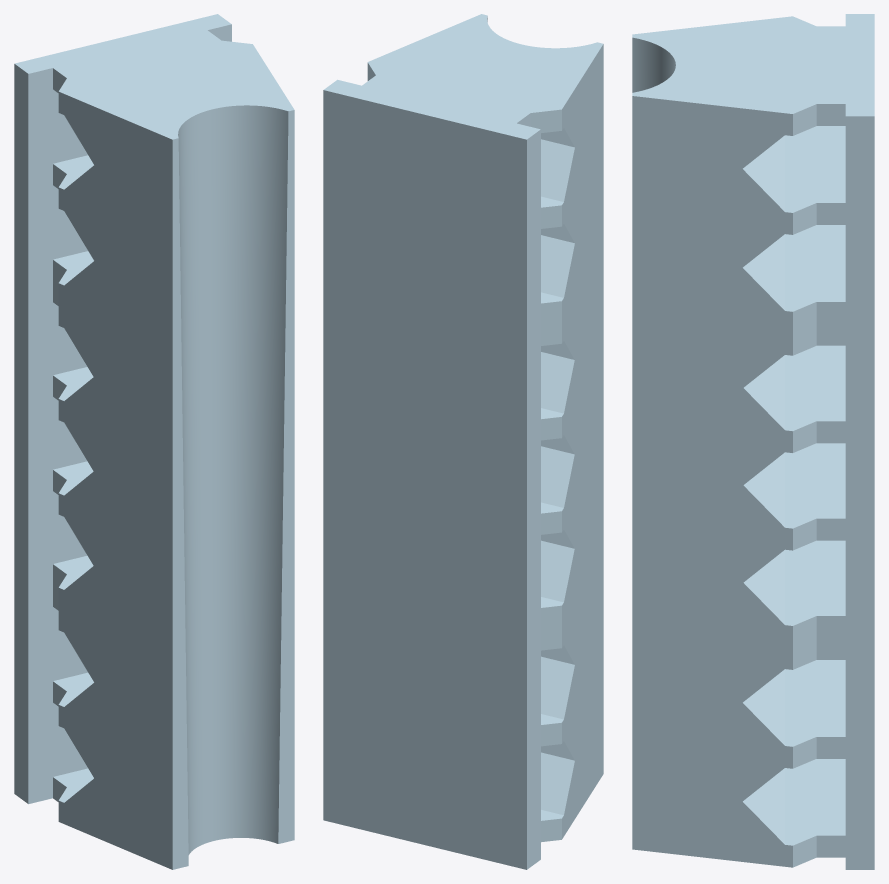
File: NeckCenterSupport.gltf
3 renders of one model, left to right at view 1: azimuth 30°, elevation 25°; view 2: azimuth 150°, elevation 25°; view 3: azimuth 270°, elevation 25°, orthographic. The views are drawn at different scales.
Parts seen in each view (by area): view 1: CenterSupportC, CenterSupportB, CenterSupportA; view 2: CenterSupportC, CenterSupportB, CenterSupportA; view 3: CenterSupportC, CenterSupportB, CenterSupportA.
Part boxes in pixels (<box>): CenterSupportC: <box>14,277,294,656</box>; CenterSupportB: <box>14,14,294,352</box>; CenterSupportA: <box>14,581,294,869</box>; CenterSupportC: <box>323,257,603,656</box>; CenterSupportB: <box>323,14,603,352</box>; CenterSupportA: <box>323,561,603,869</box>; CenterSupportC: <box>632,315,874,650</box>; CenterSupportB: <box>632,14,874,335</box>; CenterSupportA: <box>632,630,874,869</box>.
Bounding box in the file's own units: 0.1 × 0.343 × 0.1.
